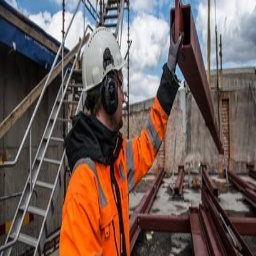helmet: (78, 28, 129, 96)
person: (61, 26, 140, 256)
vest: (66, 148, 138, 256)
